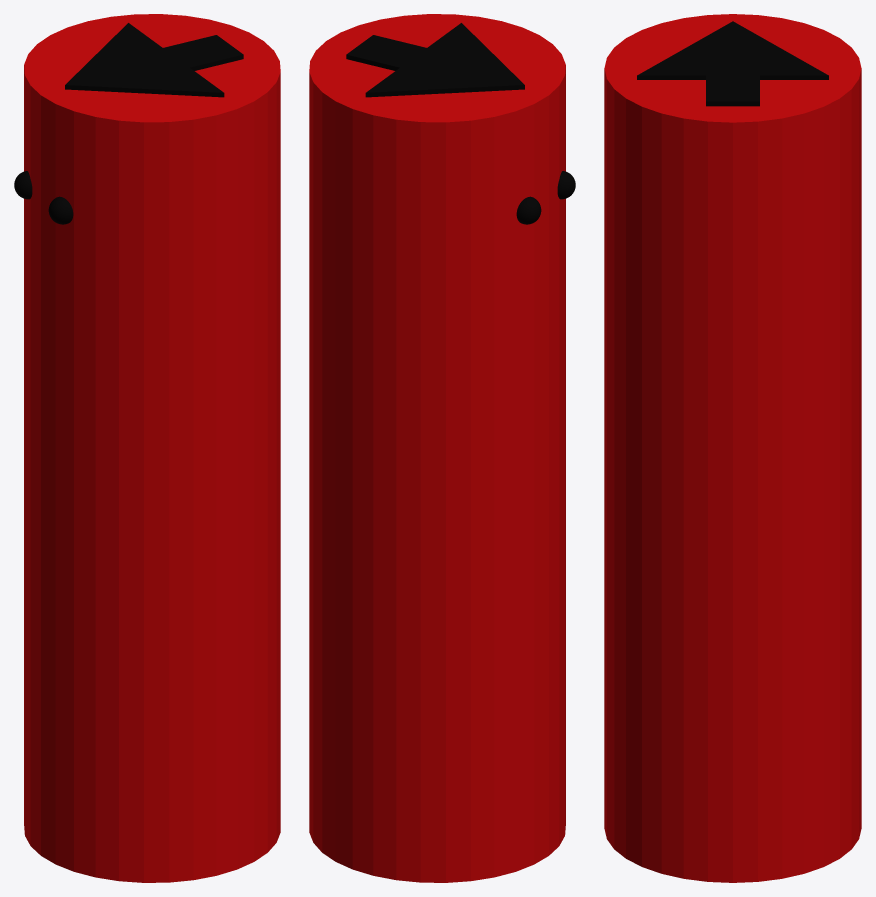
The picture shows the model from 3 angles, left to right: view 1: azimuth 30°, elevation 25°; view 2: azimuth 150°, elevation 25°; view 3: azimuth 270°, elevation 25°; orthographic projection.
Visible parts, largest first — view 1: Cylinder_Cylinder_Material.002, Cylinder_Cylinder_SVGMat; view 2: Cylinder_Cylinder_Material.002, Cylinder_Cylinder_SVGMat; view 3: Cylinder_Cylinder_Material.002, Cylinder_Cylinder_SVGMat.
Part boxes in pixels (x1,y1,x2,y2): Cylinder_Cylinder_Material.002: [24, 14, 280, 882]; Cylinder_Cylinder_SVGMat: [14, 23, 243, 224]; Cylinder_Cylinder_Material.002: [309, 14, 565, 882]; Cylinder_Cylinder_SVGMat: [346, 23, 575, 224]; Cylinder_Cylinder_Material.002: [604, 14, 861, 882]; Cylinder_Cylinder_SVGMat: [637, 21, 828, 106].
Bounding box in the file's own units: 0.1612 × 0.5117 × 0.1559.
